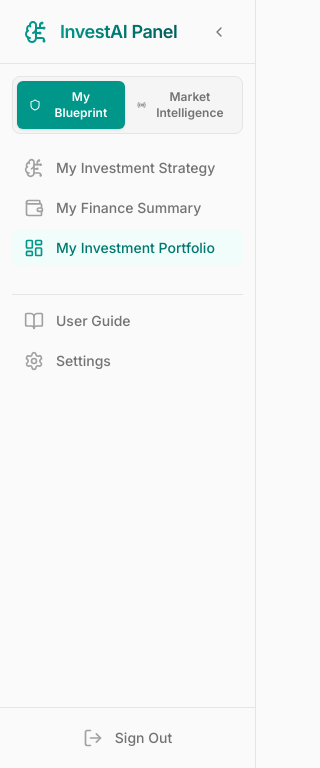
Test: Sidebar collapse toggle › collapses the outer container when the toggle is clicked
Click the button named "collapse sidebar". click: (219, 32)
box: [207, 20, 231, 44]
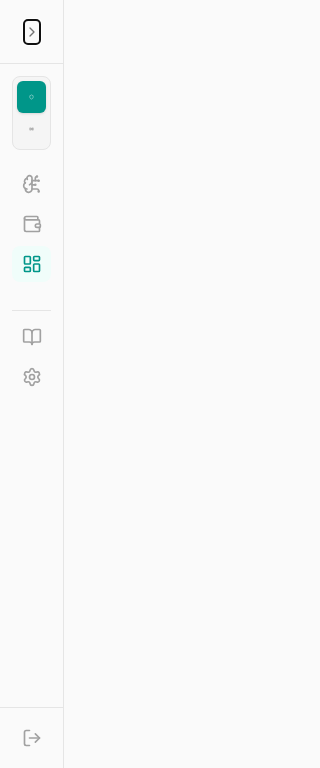
Expected: the button named "expand sidebar" is collapsed, [24, 20, 40, 44]
